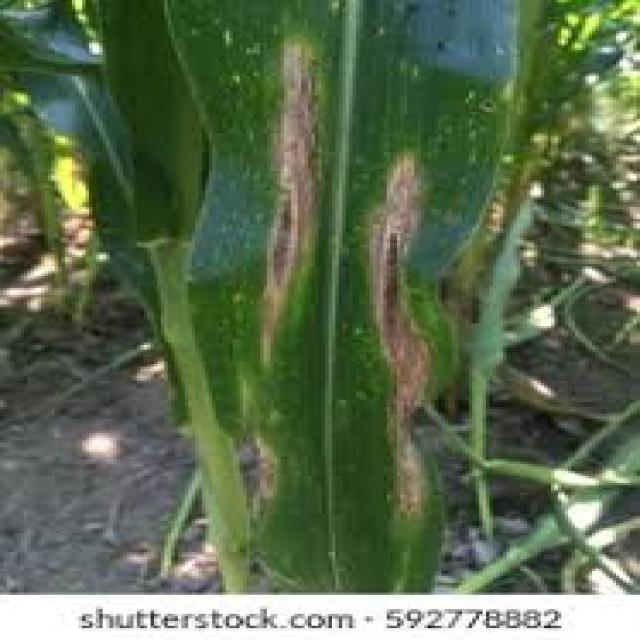Corn_Leaf_Blight: (174, 19, 514, 550)
